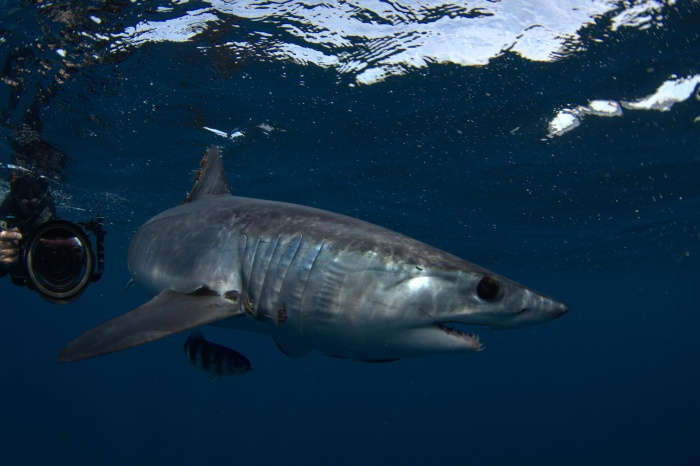Mako: (51, 140, 577, 391)
